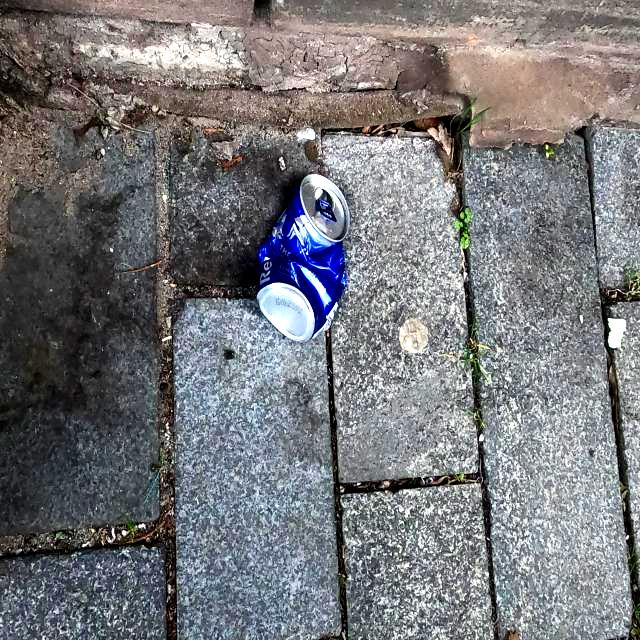Metal: (252, 171, 352, 347)
